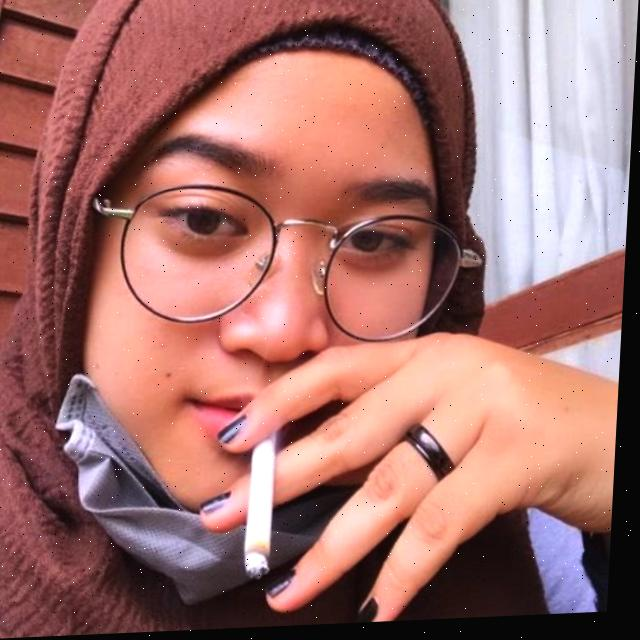cigarette: (247, 437, 282, 584)
